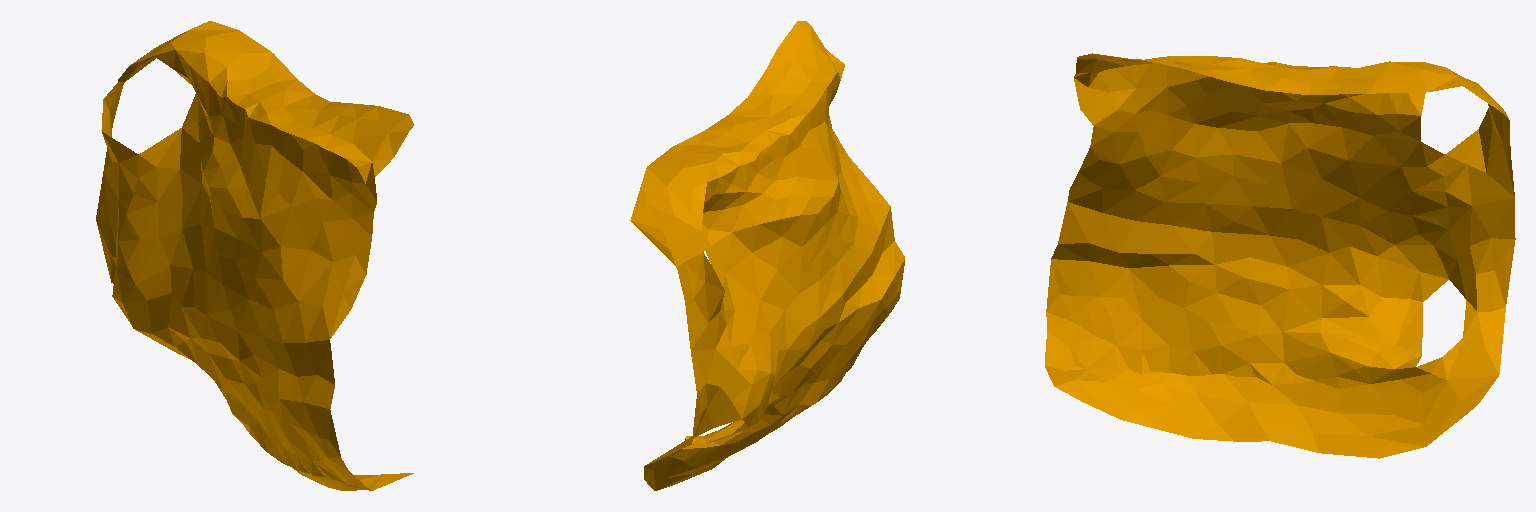
URDF robot description (init):
<?xml version='1.0' encoding='utf-8'?>
<robot name="init">
<link name="link_0"><inertial><mass value="1.0" /><origin rpy="0 0 0" xyz="0.000000 0.000000 0.000000" /><inertia ixx="1.0" ixy="0.0" ixz="0.0" iyy="1.0" iyz="0.0" izz="1.0" /></inertial><visual><origin rpy="0 0 0" xyz="0.000000 0.000000 0.000000" /><geometry><mesh filename="./clothHuman/cloth/2510.obj" /></geometry></visual><collision><origin rpy="0 0 0" xyz="0.000000 0.000000 0.000000" /><geometry><mesh filename="./clothHuman/cloth/2510.obj" /></geometry></collision></link></robot>

--- What the picture shows (computed from the rendered views, not written in the file) ---
3 views of the same robot in one strip: view 1: azimuth 30°, elevation 25°; view 2: azimuth 150°, elevation 25°; view 3: azimuth 270°, elevation 25° (orthographic).
Model init with 1 links and 0 joints (none), rooted at link_0, posed all joints at 0.
Links seen in each view (by area): view 1: link_0; view 2: link_0; view 3: link_0.
Link boxes in pixels (<box>): link_0: <box>96,21,413,490</box>; link_0: <box>630,21,904,490</box>; link_0: <box>1045,53,1515,458</box>.
Bounding box of the posed robot: 1.2 × 3.98 × 3.82 m (x, y, z).
1 mesh visuals loaded from 1 distinct referenced files (1 OBJ).